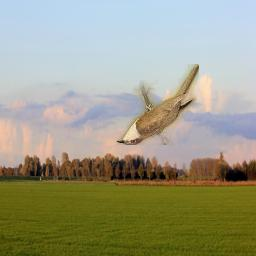Cuckoo: (117, 65, 200, 146)
